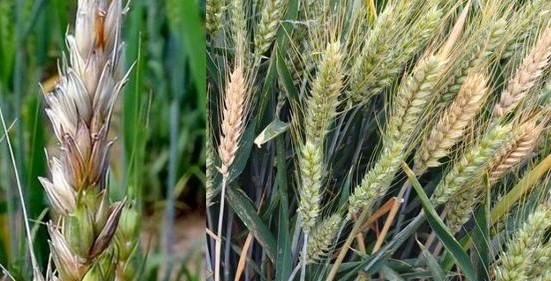Wheat scab: (38, 8, 140, 277), (214, 64, 252, 175)
